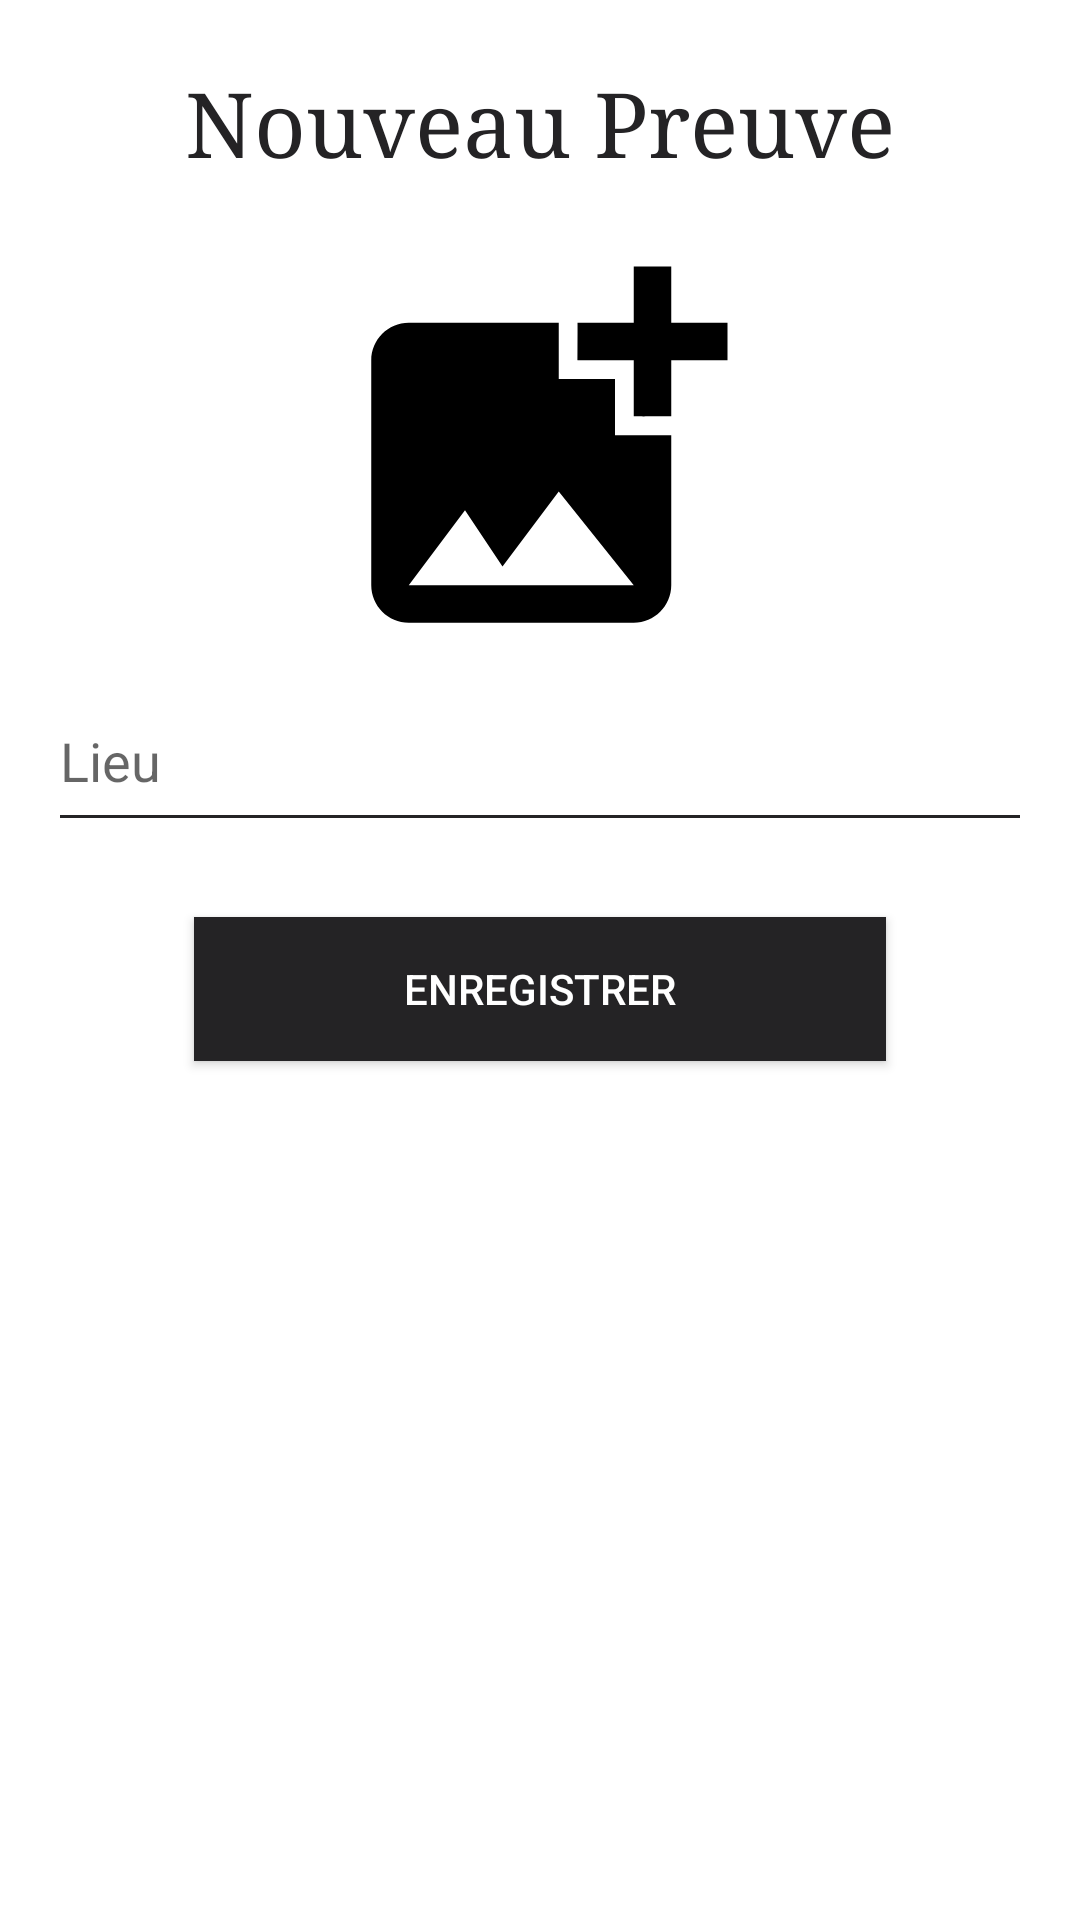

Locate icon controls on the screen. Image size 1080×1920, boxes as (x1, y1, x2, y2).
add photo alternate: (371, 266, 728, 623)
